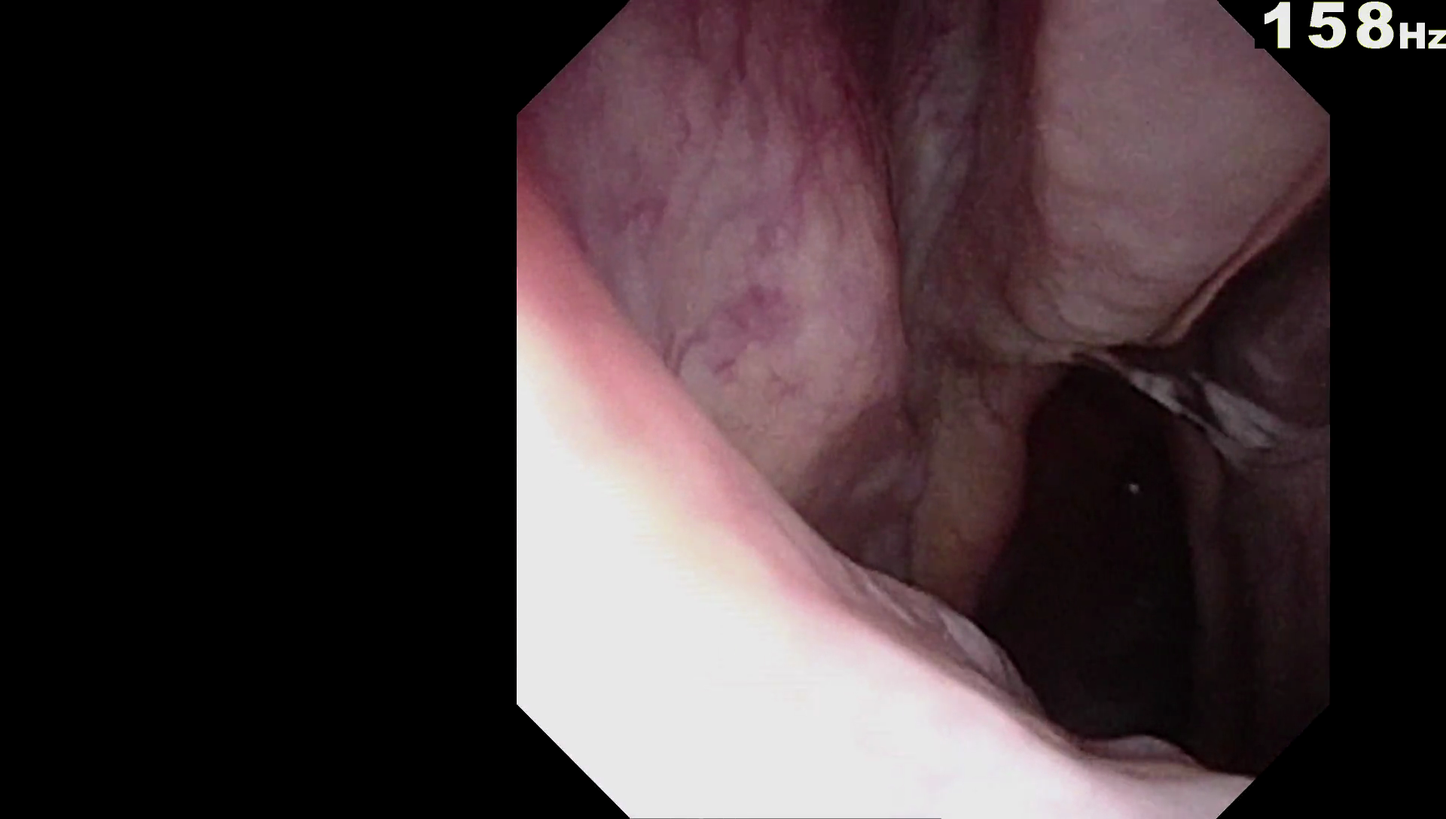close_wall: (526, 206, 1168, 819)
next: (965, 340, 1250, 763)
